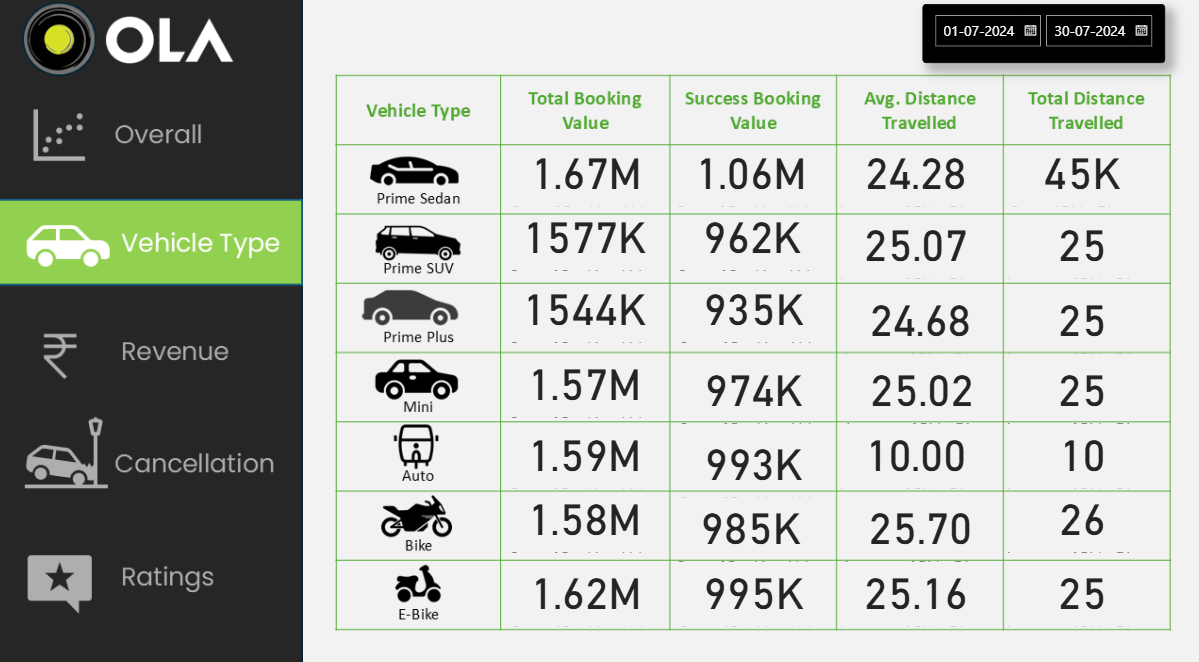

What the dashboard file says about the page in this screenshot:
{"tool":"powerbi","page":{"name":"Vehicle Type","canvas":[1280,720],"ordinal":1},"visuals":[{"type":"actionButton","box":[0,451.7,322.9,89.1],"z":0},{"type":"actionButton","box":[1.6,586.9,322.9,89.1],"z":1000},{"type":"actionButton","box":[0,342,322.9,89.1],"z":2000},{"type":"actionButton","box":[0,108.2,322.9,89.1],"z":3000},{"type":"card","fields":{"Values":["Sum(Bookings.Booking_Value)"]},"box":[536,163.8,176.6,68.4],"z":4000},{"type":"card","fields":{"Values":["Sum(Bookings.Booking_Value)"]},"box":[534.8,232.4,175.7,68],"z":5000},{"type":"card","fields":{"Values":["Sum(Bookings.Booking_Value)"]},"box":[534.8,308,175.7,68],"z":6000},{"type":"card","fields":{"Values":["Sum(Bookings.Booking_Value)"]},"box":[534.8,387.4,175.7,68],"z":7000},{"type":"card","fields":{"Values":["Sum(Bookings.Booking_Value)"]},"box":[534.8,463,175.7,68],"z":8000},{"type":"card","fields":{"Values":["Sum(Bookings.Booking_Value)"]},"box":[534.8,531,175.7,68],"z":9000},{"type":"card","fields":{"Values":["Sum(Bookings.Booking_Value)"]},"box":[536.7,608.5,175.7,68],"z":10000},{"type":"card","fields":{"Values":["Sum(Bookings.Booking_Value)"]},"box":[710.6,164.4,175.7,68],"z":11000},{"type":"card","fields":{"Values":["Sum(Bookings.Booking_Value)"]},"box":[712.4,232.4,175.7,68],"z":12000},{"type":"card","fields":{"Values":["Sum(Bookings.Booking_Value)"]},"box":[714.3,308,175.7,68],"z":13000},{"type":"card","fields":{"Values":["Sum(Bookings.Booking_Value)"]},"box":[714.3,395,175.7,68],"z":14000},{"type":"card","fields":{"Values":["Sum(Bookings.Booking_Value)"]},"box":[714.3,472.4,175.7,68],"z":15000},{"type":"card","fields":{"Values":["Sum(Bookings.Booking_Value)"]},"box":[710.6,540.5,175.7,68],"z":16000},{"type":"card","fields":{"Values":["Sum(Bookings.Booking_Value)"]},"box":[714.3,608.5,175.7,68],"z":17000},{"type":"card","fields":{"Values":["Avg(Bookings.Ride_Distance)"]},"box":[886.3,164.4,175.7,68],"z":18000},{"type":"card","fields":{"Values":["Avg(Bookings.Ride_Distance)"]},"box":[886.3,240,175.7,68],"z":19000},{"type":"card","fields":{"Values":["Avg(Bookings.Ride_Distance)"]},"box":[890.1,319.4,175.7,68],"z":20000},{"type":"card","fields":{"Values":["Avg(Bookings.Ride_Distance)"]},"box":[892,395,175.7,68],"z":21000},{"type":"card","fields":{"Values":["Avg(Bookings.Ride_Distance)"]},"box":[886.3,463,175.7,68],"z":22000},{"type":"card","fields":{"Values":["Avg(Bookings.Ride_Distance)"]},"box":[890.1,540.5,175.7,68],"z":23000},{"type":"card","fields":{"Values":["Avg(Bookings.Ride_Distance)"]},"box":[886.3,608.5,175.7,68],"z":24000},{"type":"card","fields":{"Values":["Sum(Bookings.Ride_Distance)"]},"box":[1062.1,164.4,175.7,68],"z":25000},{"type":"card","fields":{"Values":["Avg(Bookings.Ride_Distance)"]},"box":[1062.1,240,175.7,68],"z":26000},{"type":"card","fields":{"Values":["Avg(Bookings.Ride_Distance)"]},"box":[1062.1,319.4,175.7,68],"z":27000},{"type":"card","fields":{"Values":["Avg(Bookings.Ride_Distance)"]},"box":[1062.1,395,175.7,68],"z":28000},{"type":"card","fields":{"Values":["Avg(Bookings.Ride_Distance)"]},"box":[1062.1,463,175.7,68],"z":29000},{"type":"card","fields":{"Values":["Avg(Bookings.Ride_Distance)"]},"box":[1062.1,531,175.7,68],"z":30000},{"type":"card","fields":{"Values":["Avg(Bookings.Ride_Distance)"]},"box":[1062.1,608.5,175.7,68],"z":31000},{"type":"slicer","fields":{"Values":["Bookings.Date"]},"box":[980.8,13.2,257,62.4],"z":32000}]}

Visuals, with their boxes on the page's 1280x720 design canvas (x1, y1, x2, y2). These are canvas units, not pixel positions in the 1199x662 screenshot, which may show the page scaled, cropped or inside an application window:
actionButton: 0:452:323:541
actionButton: 2:587:324:676
actionButton: 0:342:323:431
actionButton: 0:108:323:197
card - Sum(Bookings.Booking_Value): 536:164:713:232
card - Sum(Bookings.Booking_Value): 535:232:710:300
card - Sum(Bookings.Booking_Value): 535:308:710:376
card - Sum(Bookings.Booking_Value): 535:387:710:455
card - Sum(Bookings.Booking_Value): 535:463:710:531
card - Sum(Bookings.Booking_Value): 535:531:710:599
card - Sum(Bookings.Booking_Value): 537:608:712:676
card - Sum(Bookings.Booking_Value): 711:164:886:232
card - Sum(Bookings.Booking_Value): 712:232:888:300
card - Sum(Bookings.Booking_Value): 714:308:890:376
card - Sum(Bookings.Booking_Value): 714:395:890:463
card - Sum(Bookings.Booking_Value): 714:472:890:540
card - Sum(Bookings.Booking_Value): 711:540:886:608
card - Sum(Bookings.Booking_Value): 714:608:890:676
card - Avg(Bookings.Ride_Distance): 886:164:1062:232
card - Avg(Bookings.Ride_Distance): 886:240:1062:308
card - Avg(Bookings.Ride_Distance): 890:319:1066:387
card - Avg(Bookings.Ride_Distance): 892:395:1068:463
card - Avg(Bookings.Ride_Distance): 886:463:1062:531
card - Avg(Bookings.Ride_Distance): 890:540:1066:608
card - Avg(Bookings.Ride_Distance): 886:608:1062:676
card - Sum(Bookings.Ride_Distance): 1062:164:1238:232
card - Avg(Bookings.Ride_Distance): 1062:240:1238:308
card - Avg(Bookings.Ride_Distance): 1062:319:1238:387
card - Avg(Bookings.Ride_Distance): 1062:395:1238:463
card - Avg(Bookings.Ride_Distance): 1062:463:1238:531
card - Avg(Bookings.Ride_Distance): 1062:531:1238:599
card - Avg(Bookings.Ride_Distance): 1062:608:1238:676
slicer - Bookings.Date: 981:13:1238:76
